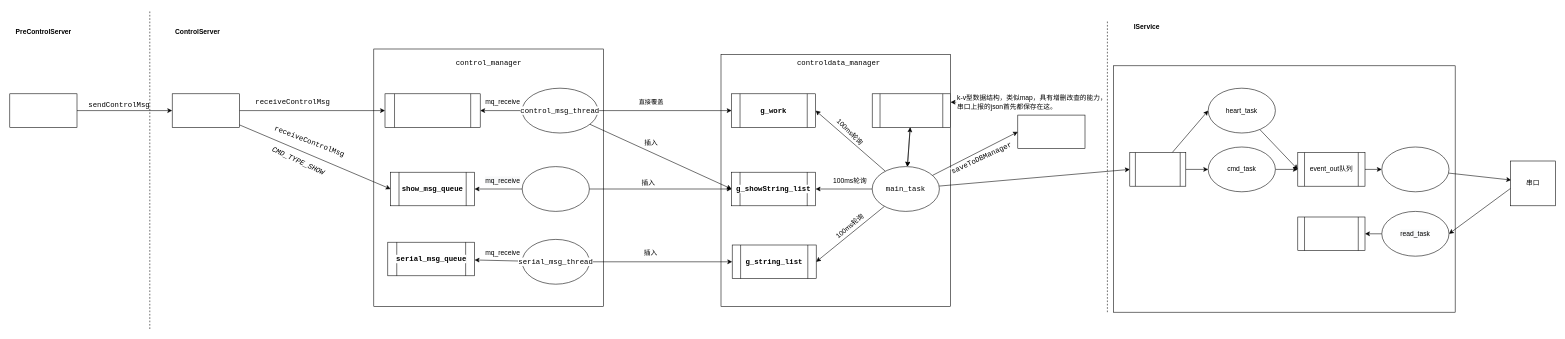
Image size: 1565x339. Some labels were removed from this diagram. The centre of each missing label's shape, as x and y in pixels:
"control_msg_queue" goes at (x=432, y=110).
"event_in队列" goes at (x=1331, y=233).
"g_cmd_list" goes at (x=1157, y=169).
"g_serial_bean" goes at (x=911, y=110).
"show_msg_thread" goes at (x=555, y=188).
"write_task" goes at (x=1415, y=169).
"数据库" goes at (x=1051, y=132).
